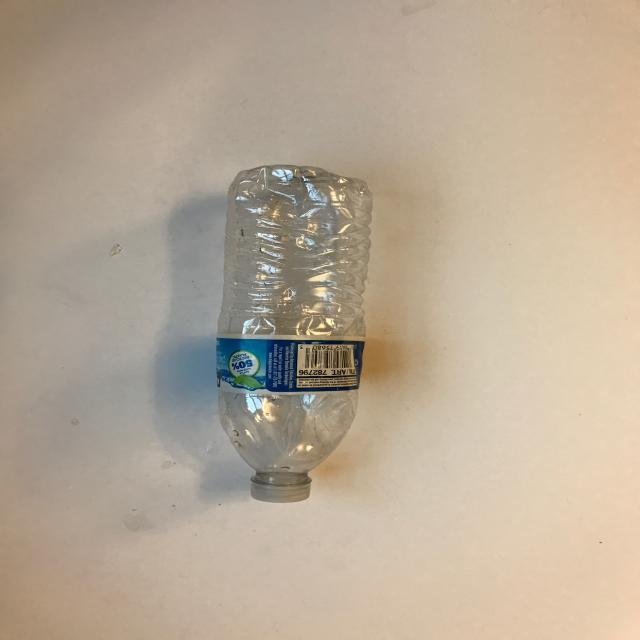plastic: (214, 164, 373, 502)
